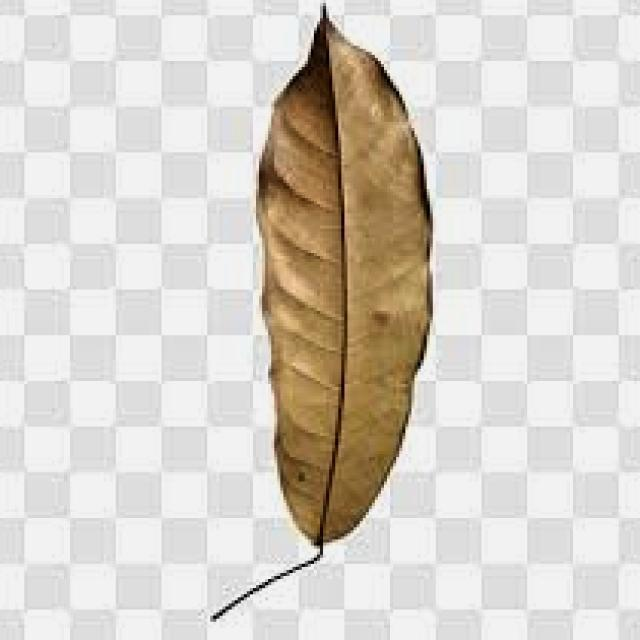leaf: (254, 2, 434, 546)
